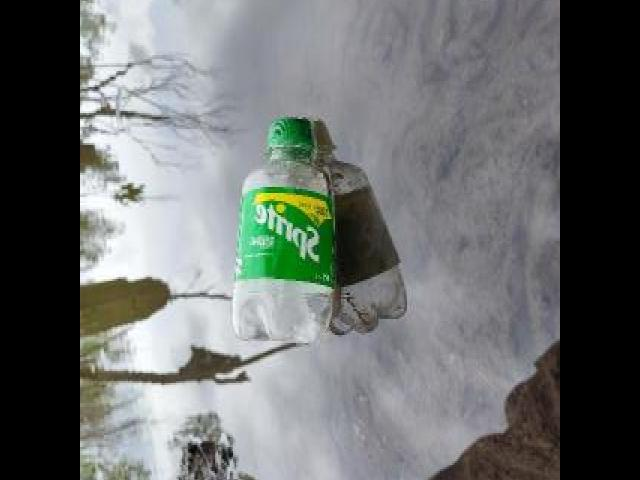Bottle: (228, 103, 344, 348)
